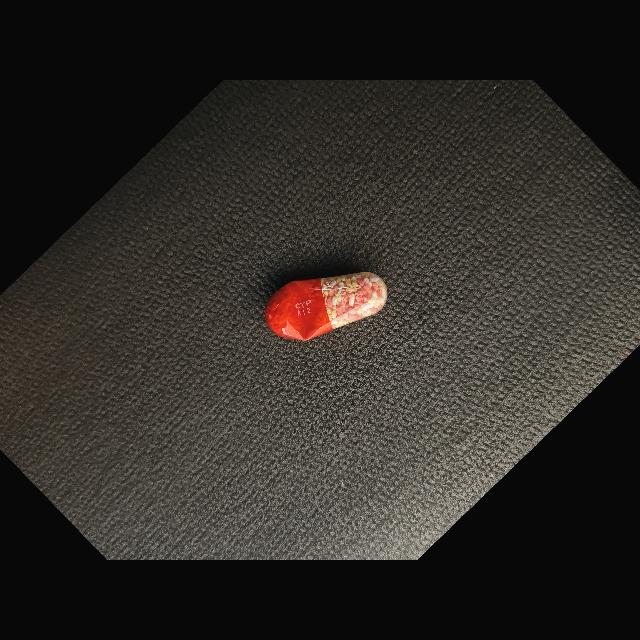Defective Capsule: (265, 272, 388, 341)
